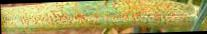Wheat: (3, 10, 88, 27), (91, 1, 139, 22), (142, 2, 170, 20), (172, 5, 184, 20)
